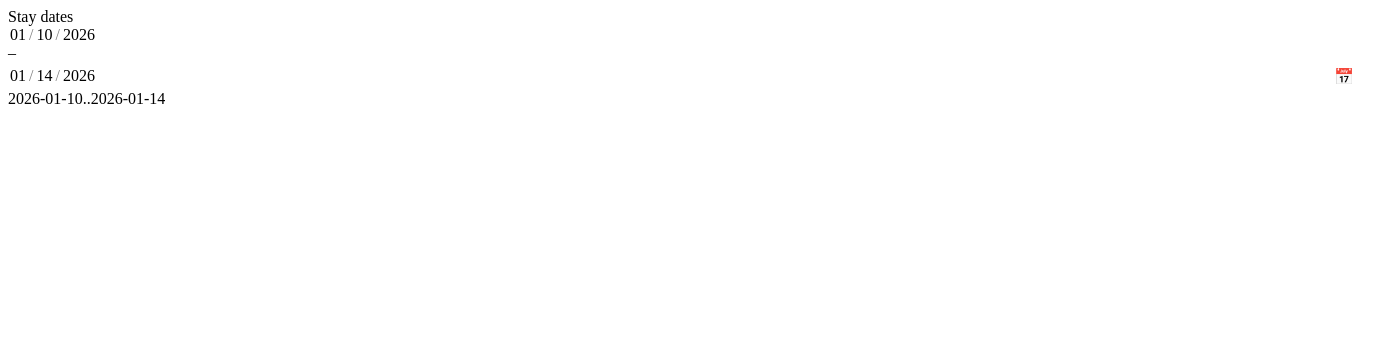
Test: DateRangePicker › reuses the RANGE calendar inside the popover, not the single one
This screenshot has width=1378, height=348.
Click the button named "Open calendar" at x=1344, y=76, box [1330,62,1358,90]
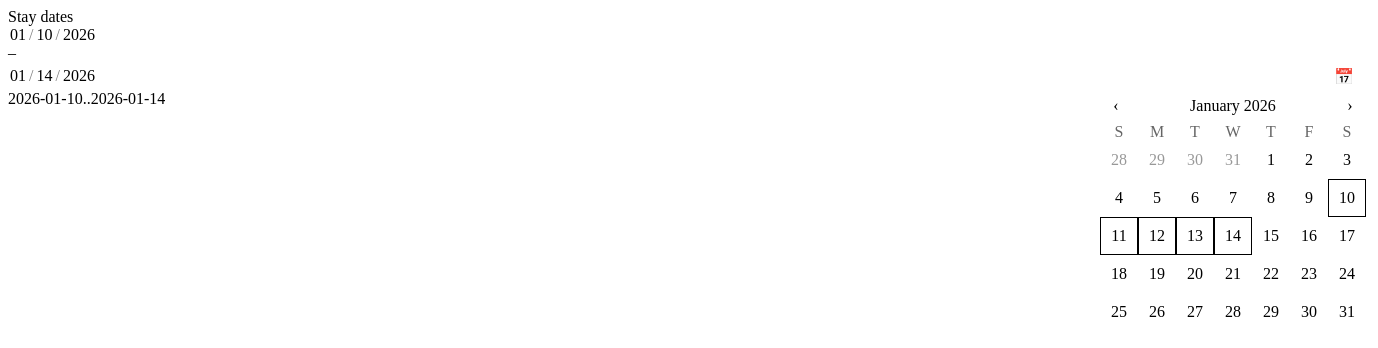
Expected: the element with class "sve-range-calendar" is shown, [1100,90,1366,331]
Expected: the header with class "sve-calendar__header" is shown, [1100,90,1366,122]
Expected: the 1st button with class "sve-range-day" is shown, [1111,151,1127,168]
